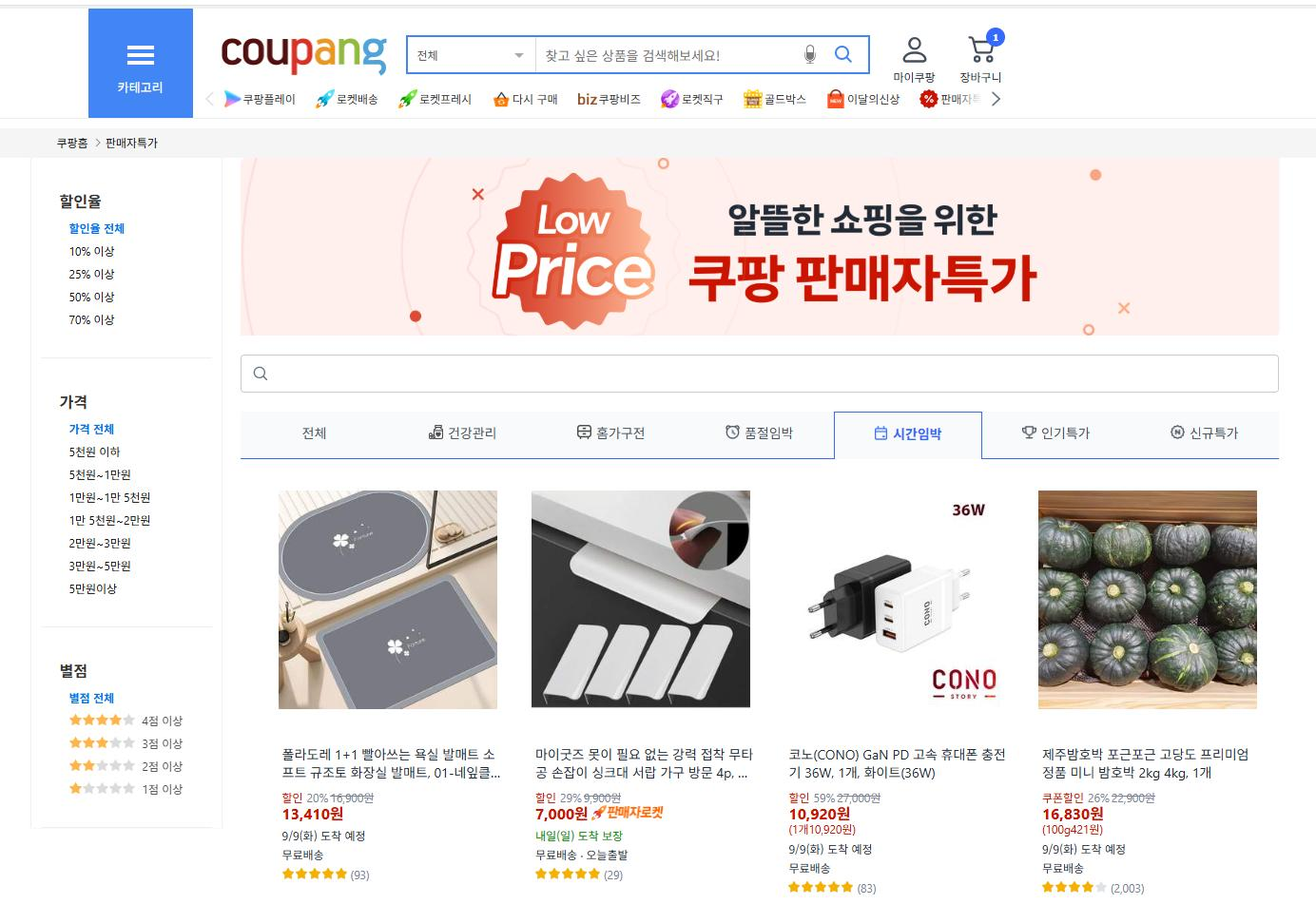button: (90, 6, 197, 117), (239, 411, 393, 459), (834, 412, 981, 461), (987, 409, 1131, 458), (1140, 409, 1278, 460), (401, 409, 538, 459), (693, 412, 823, 458), (546, 414, 684, 454), (956, 19, 1015, 87), (887, 21, 939, 90), (64, 776, 190, 802), (395, 82, 481, 114), (65, 735, 187, 757), (309, 82, 389, 115), (64, 757, 189, 778), (65, 711, 189, 732), (656, 83, 736, 115), (490, 82, 563, 116), (739, 83, 812, 116), (572, 82, 644, 115), (826, 87, 905, 116), (221, 85, 299, 114), (917, 81, 974, 117), (64, 488, 157, 510), (68, 511, 154, 532), (64, 554, 139, 578), (62, 465, 140, 486), (65, 213, 126, 238), (65, 580, 124, 605), (62, 440, 132, 461), (64, 534, 134, 555), (63, 310, 120, 333), (64, 240, 119, 263), (826, 35, 858, 72), (69, 415, 116, 439), (66, 289, 119, 308), (64, 265, 119, 283), (797, 40, 821, 71), (988, 87, 1012, 117), (202, 82, 220, 115)
checkbox: (409, 34, 537, 73)
input_field: (240, 356, 1279, 393), (406, 33, 871, 78)
popup: (242, 153, 1281, 336)
